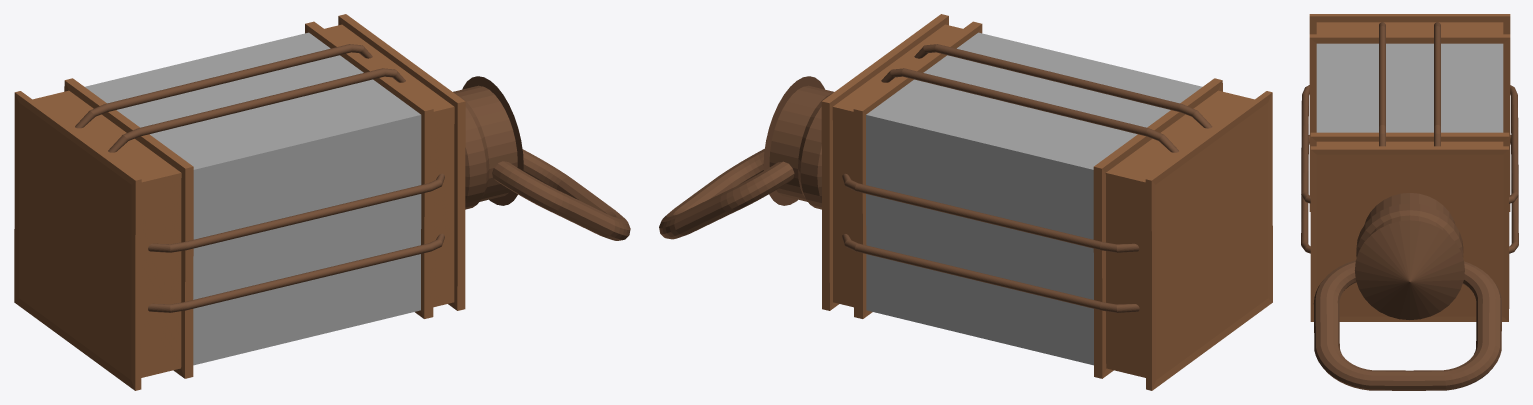
The model's file is BritishOilLantern.fbx.
3 renders of one model, left to right at view 1: azimuth 30°, elevation 25°; view 2: azimuth 150°, elevation 25°; view 3: azimuth 270°, elevation 25°, orthographic. The views are drawn at different scales.
Parts seen in each view (by area): view 1: Cube, Torus, Cylinder, Cylinder.004, Cylinder.001, Cylinder.002, Cylinder.003, Cone; view 2: Cube, Torus, Cylinder, Cylinder.008, Cylinder.002, Cylinder.007, Cylinder.001, Cone; view 3: Cube, Cone, Torus, Cylinder, Cylinder.004, Cylinder.007, Cylinder.001, Cylinder.002, Cylinder.003, Cylinder.008.
Boxes of the visible parts, x1,y1,x2,y2 form: Cube: (14,14,465,390); Torus: (492,149,630,240); Cylinder: (453,85,517,209); Cylinder.004: (148,173,444,252); Cylinder.001: (75,44,372,128); Cylinder.002: (108,68,405,152); Cylinder.003: (148,233,444,312); Cone: (462,76,523,205); Cube: (821,14,1272,390); Torus: (659,148,794,239); Cylinder: (769,85,833,209); Cylinder.008: (842,234,1139,312); Cylinder.002: (914,44,1212,128); Cylinder.007: (842,173,1139,252); Cylinder.001: (881,68,1178,152); Cone: (763,76,824,205); Cube: (1309,14,1510,321); Cone: (1354,220,1464,319); Torus: (1313,260,1501,390); Cylinder: (1356,193,1463,257); Cylinder.004: (1301,85,1310,203); Cylinder.007: (1509,85,1518,203); Cylinder.001: (1434,22,1440,146); Cylinder.002: (1379,22,1385,146); Cylinder.003: (1301,135,1310,253); Cylinder.008: (1509,135,1518,253).
Bounding box in the file's own units: 743 × 311 × 323.
